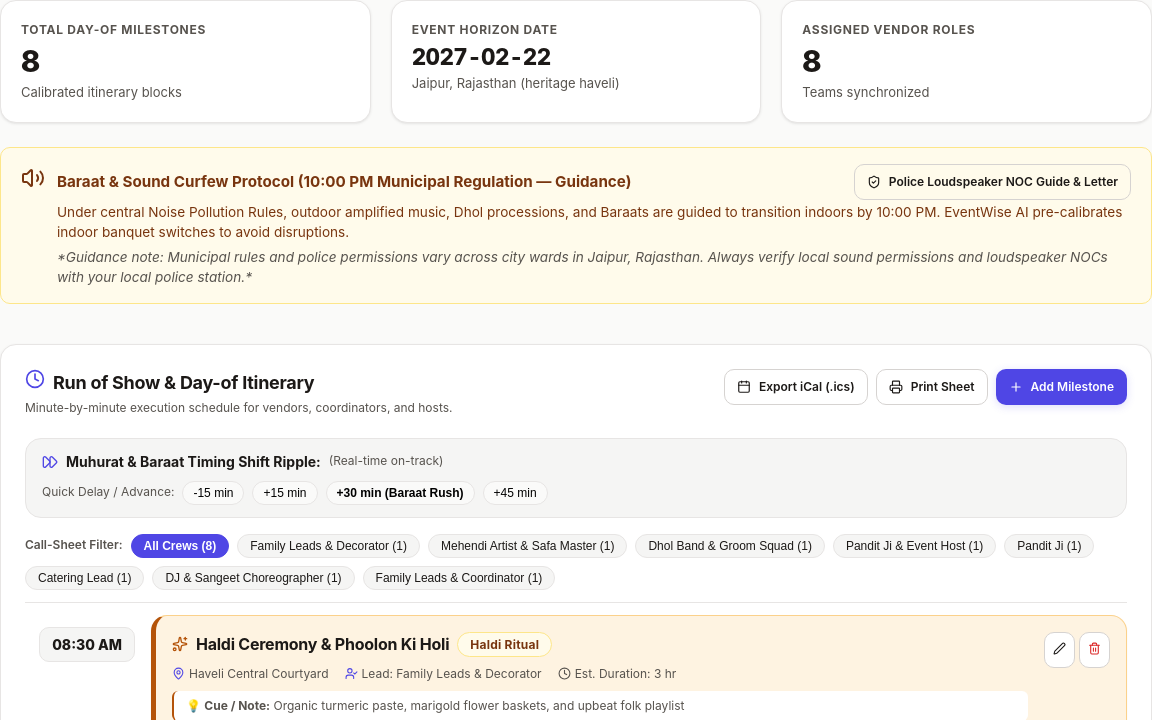
it: Pro Features Upgrade Suite › RunOfShowManager Pro Upgrades › opens Police Loudspeaker NOC modal and provides copyable application letter
This screenshot has width=1152, height=720.
What coordinates should you click on to do the following:
click the button "Police Loudspeaker NOC Guide & Letter"
I would click on:
 (992, 182)
Its box is top-left (854, 164), bottom-right (1131, 200).
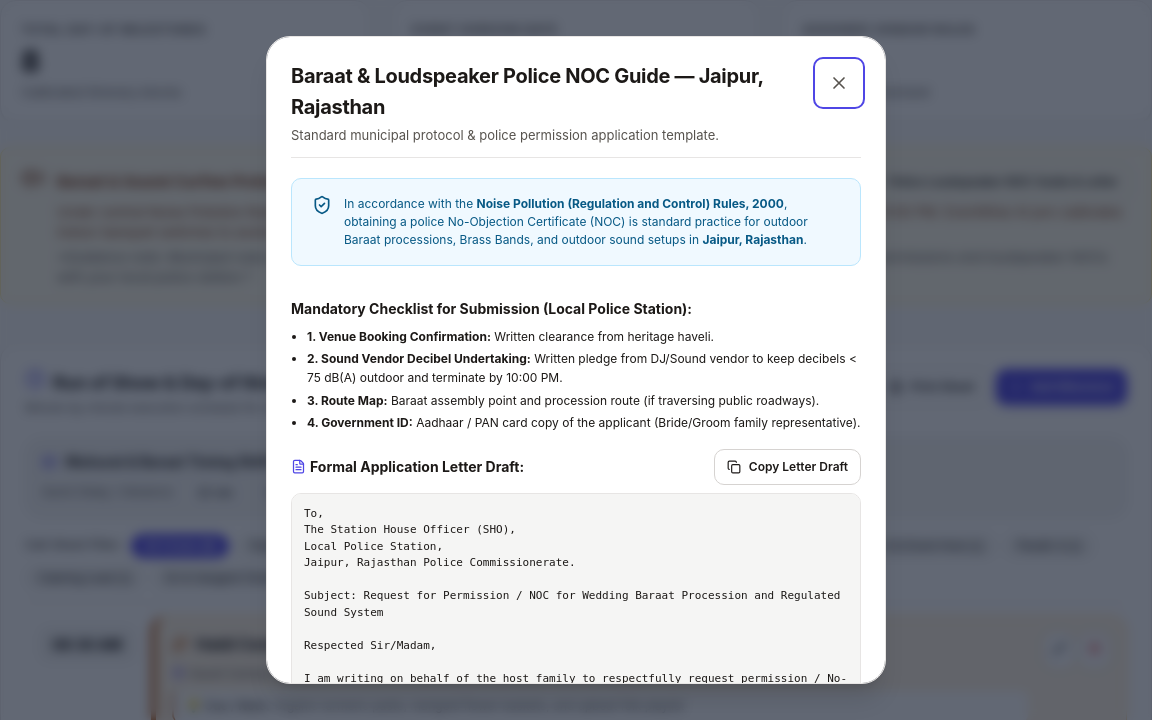
Expected: the text "2. Sound Vendor Decibel Undertaking:" is shown, top-left (307, 351), bottom-right (531, 366)
Expected: the button "Copy Letter Draft" is shown, top-left (714, 449), bottom-right (861, 485)
